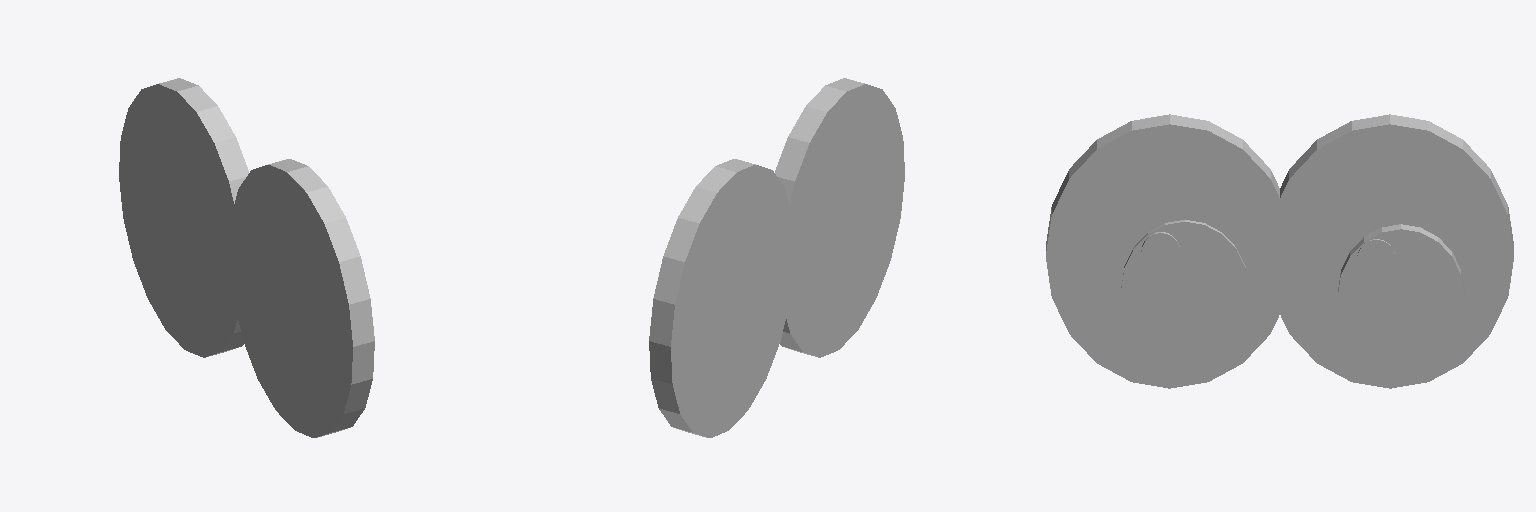
The model's file is ScholarsVR_Eyes_open.obj.
3 views of the same model, side by side, from view 1: azimuth 30°, elevation 25°; view 2: azimuth 150°, elevation 25°; view 3: azimuth 270°, elevation 25° (orthographic).
Visible parts, largest first — view 1: pCylinder2, pCylinder4; view 2: pCylinder4, pCylinder2; view 3: pCylinder4, pCylinder2, pCylinder5, pCylinder3, pCylinder7, pCylinder8.
Part boxes in pixels (x1,y1,x2,y2): pCylinder2: (229, 159, 374, 437); pCylinder4: (119, 78, 248, 357); pCylinder4: (649, 159, 793, 437); pCylinder2: (775, 78, 904, 357); pCylinder4: (1266, 114, 1513, 388); pCylinder2: (1046, 114, 1289, 388); pCylinder5: (1338, 224, 1464, 363); pCylinder3: (1121, 220, 1248, 356); pCylinder7: (1141, 232, 1180, 274); pCylinder8: (1357, 239, 1395, 281).
Size of the model in its own units: 0.4443 by 2.32 by 3.77.